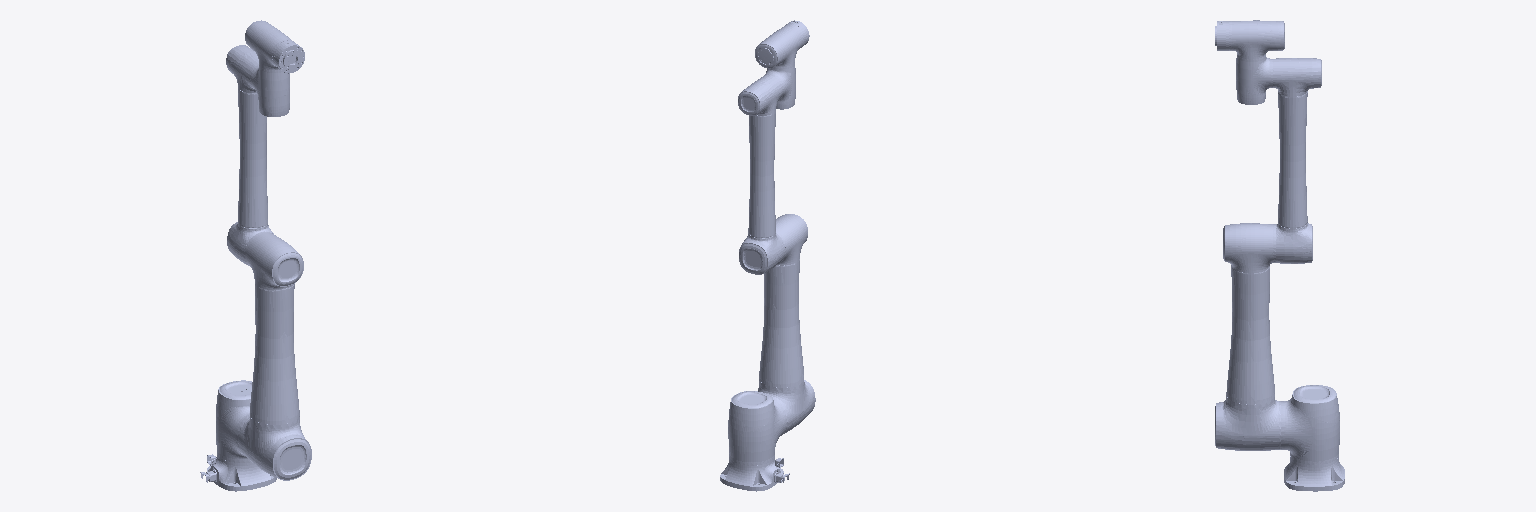
URDF robot description (cr10a_robot):
<?xml version="1.0" encoding="utf-8"?>
<!-- This URDF was automatically created by SolidWorks to URDF Exporter! Originally created by Stephen Brawner (brawner@gmail.com) 
     Commit Version: 1.6.0-4-g7f85cfe  Build Version: 1.6.7995.38578
     For more information, please see http://wiki.ros.org/sw_urdf_exporter -->
<robot
  name="cr10a_robot">
  <link
    name="base_link">
    <inertial>
      <origin
        xyz="-0.00182236698261134 -5.0141639604285E-06 0.0341491674636669"
        rpy="0 0 0" />
      <mass
        value="1.74652285311069" />
      <inertia
        ixx="0.00405126258542087"
        ixy="5.10773986227681E-07"
        ixz="2.51893050644617E-05"
        iyy="0.00418363711728278"
        iyz="-5.37332456342791E-07"
        izz="0.00651948064956796" />
    </inertial>
    <visual>
      <origin
        xyz="0 0 0"
        rpy="0 0 0" />
      <geometry>
        <mesh
          filename="package://cr10a_robot/meshes/base_link.STL" />
      </geometry>
      <material
        name="">
        <color
          rgba="0.792156862745098 0.819607843137255 0.933333333333333 1" />
      </material>
    </visual>
    <collision>
      <origin
        xyz="0 0 0"
        rpy="0 0 0" />
      <geometry>
        <mesh
          filename="package://cr10a_robot/meshes/base_link.STL" />
      </geometry>
    </collision>
  </link>
  <link
    name="Link1">
    <inertial>
      <origin
        xyz="-1.5665E-06 -0.010819 0.17934"
        rpy="0 0 0" />
      <mass
        value="4.1649" />
      <inertia
        ixx="0.020714"
        ixy="6.9683E-09"
        ixz="5.0487E-08"
        iyy="0.018824"
        iyz="-9.6825E-05"
        izz="0.014574" />
    </inertial>
    <visual>
      <origin
        xyz="0 0 0"
        rpy="0 0 0" />
      <geometry>
        <mesh
          filename="package://cr10a_robot/meshes/Link1.STL" />
      </geometry>
      <material
        name="">
        <color
          rgba="0.79216 0.81961 0.93333 1" />
      </material>
    </visual>
    <collision>
      <origin
        xyz="0 0 0"
        rpy="0 0 0" />
      <geometry>
        <mesh
          filename="package://cr10a_robot/meshes/Link1.STL" />
      </geometry>
    </collision>
  </link>
  <joint
    name="Joint1"
    type="revolute">
    <origin
      xyz="0 0 0"
      rpy="0 0 0" />
    <parent
      link="base_link" />
    <child
      link="Link1" />
    <axis
      xyz="0 0 -1" />
    <limit
      lower="-6.28"
      upper="6.28"
      effort="100"
      velocity="2.62" />
  </joint>
  <link
    name="Link2">
    <inertial>
      <origin
        xyz="-1.1155E-07 0.2463 0.19515"
        rpy="0 0 0" />
      <mass
        value="11.314" />
      <inertia
        ixx="0.30683"
        ixy="-1.3105E-08"
        ixz="7.0597E-08"
        iyy="0.033617"
        iyz="0.0033375"
        izz="0.29972" />
    </inertial>
    <visual>
      <origin
        xyz="0 0 0"
        rpy="0 0 0" />
      <geometry>
        <mesh
          filename="package://cr10a_robot/meshes/Link2.STL" />
      </geometry>
      <material
        name="">
        <color
          rgba="0.79216 0.81961 0.93333 1" />
      </material>
    </visual>
    <collision>
      <origin
        xyz="0 0 0"
        rpy="0 0 0" />
      <geometry>
        <mesh
          filename="package://cr10a_robot/meshes/Link2.STL" />
      </geometry>
    </collision>
  </link>
  <joint
    name="Joint2"
    type="revolute">
    <origin
      xyz="0 0 0.1765"
      rpy="1.5708 0 0" />
    <parent
      link="Link1" />
    <child
      link="Link2" />
    <axis
      xyz="0 0 1" />
    <limit
      lower="-6.28"
      upper="6.28"
      effort="100"
      velocity="2.62" />
  </joint>
  <link
    name="Link3">
    <inertial>
      <origin
        xyz="0.270862097829883 4.48997423897808E-07 0.130704131468558"
        rpy="0 0 0" />
      <mass
        value="4.89189755714786" />
      <inertia
        ixx="0.00715724166768376"
        ixy="-1.28684716491016E-07"
        ixz="-0.00257878914619537"
        iyy="0.239672860772069"
        iyz="-6.99567790681396E-08"
        izz="0.238368640207415" />
    </inertial>
    <visual>
      <origin
        xyz="0 0 0"
        rpy="0 0 0" />
      <geometry>
        <mesh
          filename="package://cr10a_robot/meshes/Link3.STL" />
      </geometry>
      <material
        name="">
        <color
          rgba="0.792156862745098 0.819607843137255 0.933333333333333 1" />
      </material>
    </visual>
    <collision>
      <origin
        xyz="0 0 0"
        rpy="0 0 0" />
      <geometry>
        <mesh
          filename="package://cr10a_robot/meshes/Link3.STL" />
      </geometry>
    </collision>
  </link>
  <joint
    name="Joint3"
    type="revolute">
    <origin
      xyz="0 0.607 0.193"
      rpy="-3.1416 0 1.5708" />
    <parent
      link="Link2" />
    <child
      link="Link3" />
    <axis
      xyz="0 0 1" />
    <limit
      lower="-2.79"
      upper="2.79"
      effort="100"
      velocity="3.14" />
  </joint>
  <link
    name="Link4">
    <inertial>
      <origin
        xyz="-0.0079872181182099 -2.86048335401714E-07 0.11910924945616"
        rpy="0 0 0" />
      <mass
        value="1.16884655523102" />
      <inertia
        ixx="0.00150056109575423"
        ixy="2.61479777560864E-10"
        ixz="5.45098840604506E-05"
        iyy="0.00292613332275487"
        iyz="3.90848514219409E-10"
        izz="0.00273279032976395" />
    </inertial>
    <visual>
      <origin
        xyz="0 0 0"
        rpy="0 0 0" />
      <geometry>
        <mesh
          filename="package://cr10a_robot/meshes/Link4.STL" />
      </geometry>
      <material
        name="">
        <color
          rgba="0.792156862745098 0.819607843137255 0.933333333333333 1" />
      </material>
    </visual>
    <collision>
      <origin
        xyz="0 0 0"
        rpy="0 0 0" />
      <geometry>
        <mesh
          filename="package://cr10a_robot/meshes/Link4.STL" />
      </geometry>
    </collision>
  </link>
  <joint
    name="Joint4"
    type="revolute">
    <origin
      xyz="0.568 0 0.127"
      rpy="3.1416 0 0" />
    <parent
      link="Link3" />
    <child
      link="Link4" />
    <axis
      xyz="0 0 -1" />
    <limit
      lower="-6.28"
      upper="6.28"
      effort="100"
      velocity="3.89" />
  </joint>
  <link
    name="Link5">
    <inertial>
      <origin
        xyz="-4.02201962927396E-08 0.0145465842726011 0.120451473472918"
        rpy="0 0 0" />
      <mass
        value="1.22303277065603" />
      <inertia
        ixx="0.00337902864292695"
        ixy="1.74207009578414E-08"
        ixz="1.07246561506564E-08"
        iyy="0.0014925701498181"
        iyz="-8.42069839050137E-05"
        izz="0.00323298957622922" />
    </inertial>
    <visual>
      <origin
        xyz="0 0 0"
        rpy="0 0 0" />
      <geometry>
        <mesh
          filename="package://cr10a_robot/meshes/Link5.STL" />
      </geometry>
      <material
        name="">
        <color
          rgba="0.792156862745098 0.819607843137255 0.933333333333333 1" />
      </material>
    </visual>
    <collision>
      <origin
        xyz="0 0 0"
        rpy="0 0 0" />
      <geometry>
        <mesh
          filename="package://cr10a_robot/meshes/Link5.STL" />
      </geometry>
    </collision>
  </link>
  <joint
    name="Joint5"
    type="revolute">
    <origin
      xyz="0 0 0.125"
      rpy="-1.5708 0 -1.5708" />
    <parent
      link="Link4" />
    <child
      link="Link5" />
    <axis
      xyz="0 0 1" />
    <limit
      lower="-6.28"
      upper="6.28"
      effort="50"
      velocity="3.89" />
  </joint>
  <link
    name="Link6">
    <inertial>
      <origin
        xyz="-1.48123365371113E-10 -0.000136502016039541 0.0898267236066898"
        rpy="0 0 0" />
      <mass
        value="0.207475731449731" />
      <inertia
        ixx="0.000113179735128728"
        ixy="-4.71054610706609E-14"
        ixz="-9.60411346192505E-14"
        iyy="0.000113727016310527"
        iyz="-2.86594531704226E-08"
        izz="0.000209920992588732" />
    </inertial>
    <visual>
      <origin
        xyz="0 0 0"
        rpy="0 0 0" />
      <geometry>
        <mesh
          filename="package://cr10a_robot/meshes/Link6.STL" />
      </geometry>
      <material
        name="">
        <color
          rgba="0.792156862745098 0.819607843137255 0.933333333333333 1" />
      </material>
    </visual>
    <collision>
      <origin
        xyz="0 0 0"
        rpy="0 0 0" />
      <geometry>
        <mesh
          filename="package://cr10a_robot/meshes/Link6.STL" />
      </geometry>
    </collision>
  </link>
  <joint
    name="Joint6"
    type="revolute">
    <origin
      xyz="0 0 0.125"
      rpy="1.5708 0 0" />
    <parent
      link="Link5" />
    <child
      link="Link6" />
    <axis
      xyz="0 0 1" />
    <limit
      lower="-6.28"
      upper="6.28"
      effort="50"
      velocity="3.89" />
  </joint>

  <link name="world" />
  <joint
    name="base_to_world_fixed"
    type="fixed">
    <parent
      link="world" />
    <child
      link="base_link" />
  </joint>

  <gazebo>
    <plugin
      filename="libgz_ros2_control-system.so"
      name="gz_ros2_control::GazeboSimROS2ControlPlugin">
      <parameters>
        /cr10a_robot_robot3t/install/cr10a_robot/share/cr10a_robot/config/controllers.yaml
      </parameters>
    </plugin>
  </gazebo>
<ros2_control name="GazeboSystem" type="system">
  <hardware>
    <plugin>gz_ros2_control/GazeboSimSystem</plugin>
  </hardware>

  <joint name="Joint1">
    <command_interface name="position"/>
    <state_interface name="position"/>
    <state_interface name="velocity"/>
  </joint>

  <joint name="Joint2">
    <command_interface name="position"/>
    <state_interface name="position"/>
    <state_interface name="velocity"/>
  </joint>

  <joint name="Joint3">
    <command_interface name="position"/>
    <state_interface name="position"/>
    <state_interface name="velocity"/>
  </joint>

  <joint name="Joint4">
    <command_interface name="position"/>
    <state_interface name="position"/>
    <state_interface name="velocity"/>
  </joint>

  <joint name="Joint5">
    <command_interface name="position"/>
    <state_interface name="position"/>
    <state_interface name="velocity"/>
  </joint>

  <joint name="Joint6">
    <command_interface name="position"/>
    <state_interface name="position"/>
    <state_interface name="velocity"/>
  </joint>

</ros2_control>

</robot>

--- Facts derived from the render (not from the file) ---
3 views of the same robot in one strip: view 1: azimuth 30°, elevation 25°; view 2: azimuth 150°, elevation 25°; view 3: azimuth 270°, elevation 25° (orthographic).
Robot: cr10a_robot — 8 links, 7 joints (6 revolute, 1 fixed); root link world; default pose: all joints at 0.
Links seen in each view (by area): view 1: Link2, Link3, Link1, base_link, Link4, Link5, Link6; view 2: Link2, Link3, Link1, base_link, Link5, Link4; view 3: Link2, Link3, Link1, Link5, base_link, Link4.
Link boxes in pixels (x1=…): Link2: x1=237, y1=232, x2=311, y2=480; Link3: x1=226, y1=45, x2=273, y2=265; Link1: x1=216, y1=380, x2=251, y2=462; base_link: x1=200, y1=454, x2=276, y2=491; Link4: x1=250, y1=65, x2=289, y2=116; Link5: x1=245, y1=20, x2=293, y2=69; Link6: x1=272, y1=40, x2=304, y2=73; Link2: x1=758, y1=214, x2=815, y2=433; Link3: x1=738, y1=75, x2=785, y2=274; Link1: x1=728, y1=391, x2=786, y2=465; base_link: x1=720, y1=457, x2=789, y2=491; Link5: x1=755, y1=25, x2=803, y2=68; Link4: x1=764, y1=63, x2=795, y2=109; Link2: x1=1215, y1=223, x2=1280, y2=450; Link3: x1=1273, y1=58, x2=1321, y2=263; Link1: x1=1281, y1=385, x2=1339, y2=464; Link5: x1=1229, y1=20, x2=1284, y2=58; base_link: x1=1284, y1=456, x2=1344, y2=491; Link4: x1=1236, y1=55, x2=1272, y2=104.
Bounding box of the posed robot: 0.2318 × 0.3954 × 1.52 m (x, y, z).
Meshes: 7 distinct files referenced, 7 mesh visuals loaded (7 binary STL).
